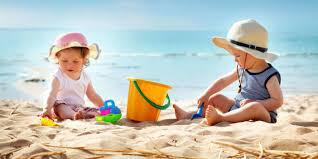child: (164, 15, 284, 130), (37, 32, 104, 123)
